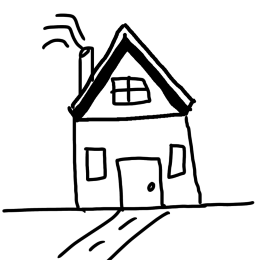closed_window: (108, 74, 154, 113)
door: (112, 150, 168, 214)
open_window: (81, 141, 112, 183), (162, 136, 189, 183)
roof: (44, 20, 216, 125)
smoking_chimney: (32, 7, 100, 95)
wall: (66, 110, 207, 214)
